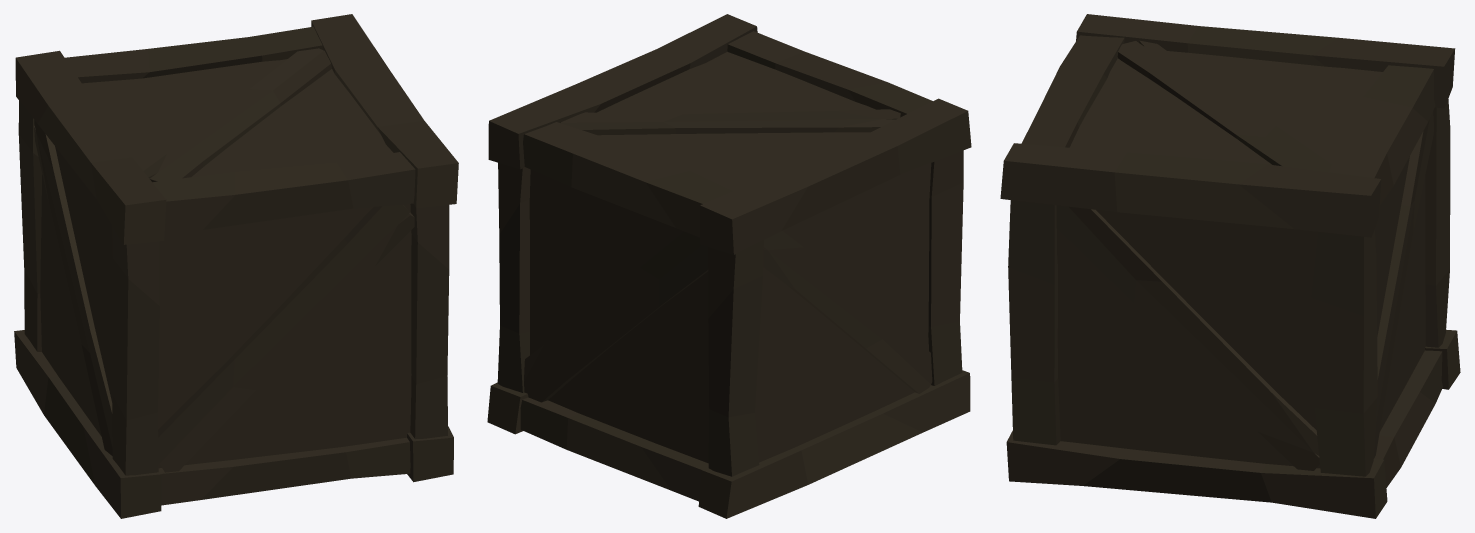
The model's file is crate_closed.fbx.
The picture shows the model from 3 angles, left to right: view 1: azimuth 30°, elevation 25°; view 2: azimuth 150°, elevation 25°; view 3: azimuth 270°, elevation 25°; orthographic projection. The views are drawn at different scales.
Parts seen in each view (by area): view 1: crate_closed; view 2: crate_closed; view 3: crate_closed.
Part boxes in pixels (x1,y1,x2,y2): crate_closed: (14,14,458,518); crate_closed: (487,14,971,518); crate_closed: (1000,14,1460,518).
Bounding box in the file's own units: 945 × 773 × 993.
